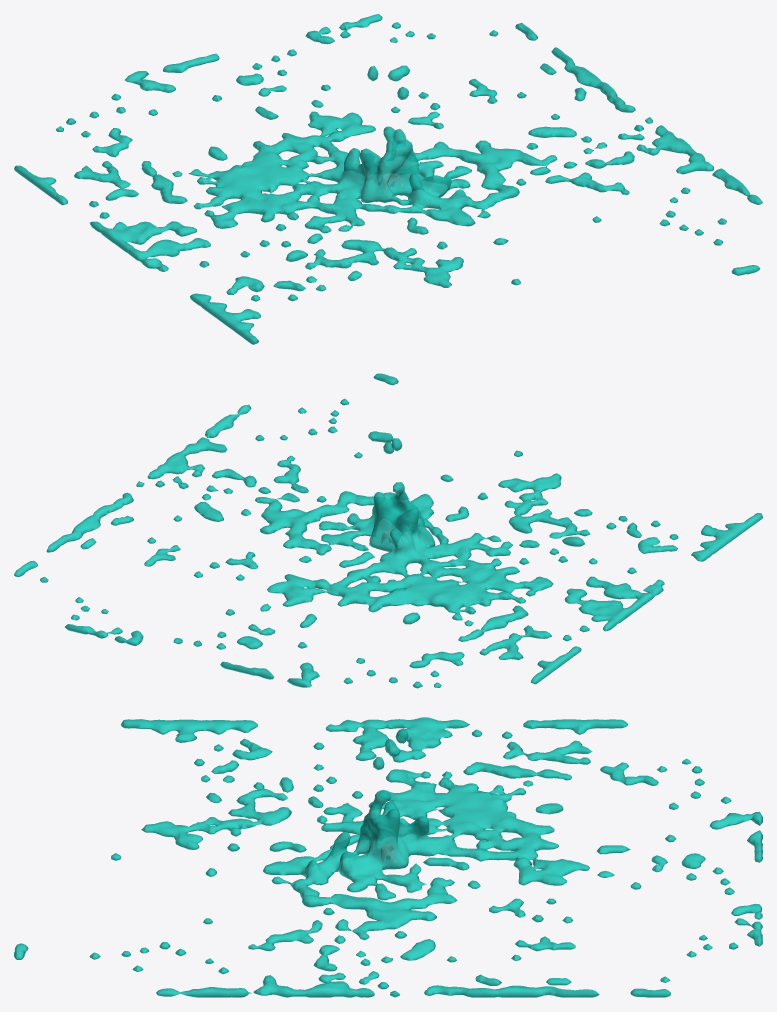
The picture shows the model from 3 angles, top to bottom: view 1: azimuth 30°, elevation 25°; view 2: azimuth 150°, elevation 25°; view 3: azimuth 270°, elevation 25°; orthographic projection. The views are drawn at different scales.
Parts seen in each view (by area): view 1: Liquid_Domain; view 2: Liquid_Domain; view 3: Liquid_Domain.
Boxes of the visible parts, x1,y1,x2,y2 form: Liquid_Domain: [14, 14, 762, 344]; Liquid_Domain: [14, 373, 762, 688]; Liquid_Domain: [14, 717, 762, 997].
Bounding box in the file's own units: 12.43 × 2.73 × 14.41.
